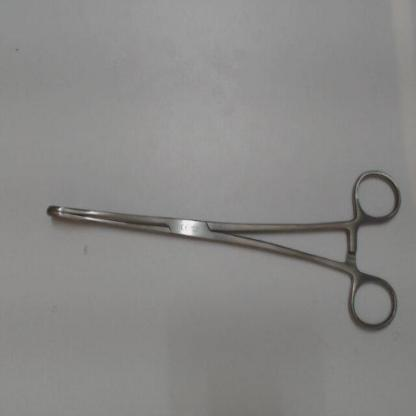Sponge Forceps: (34, 160, 408, 345)
